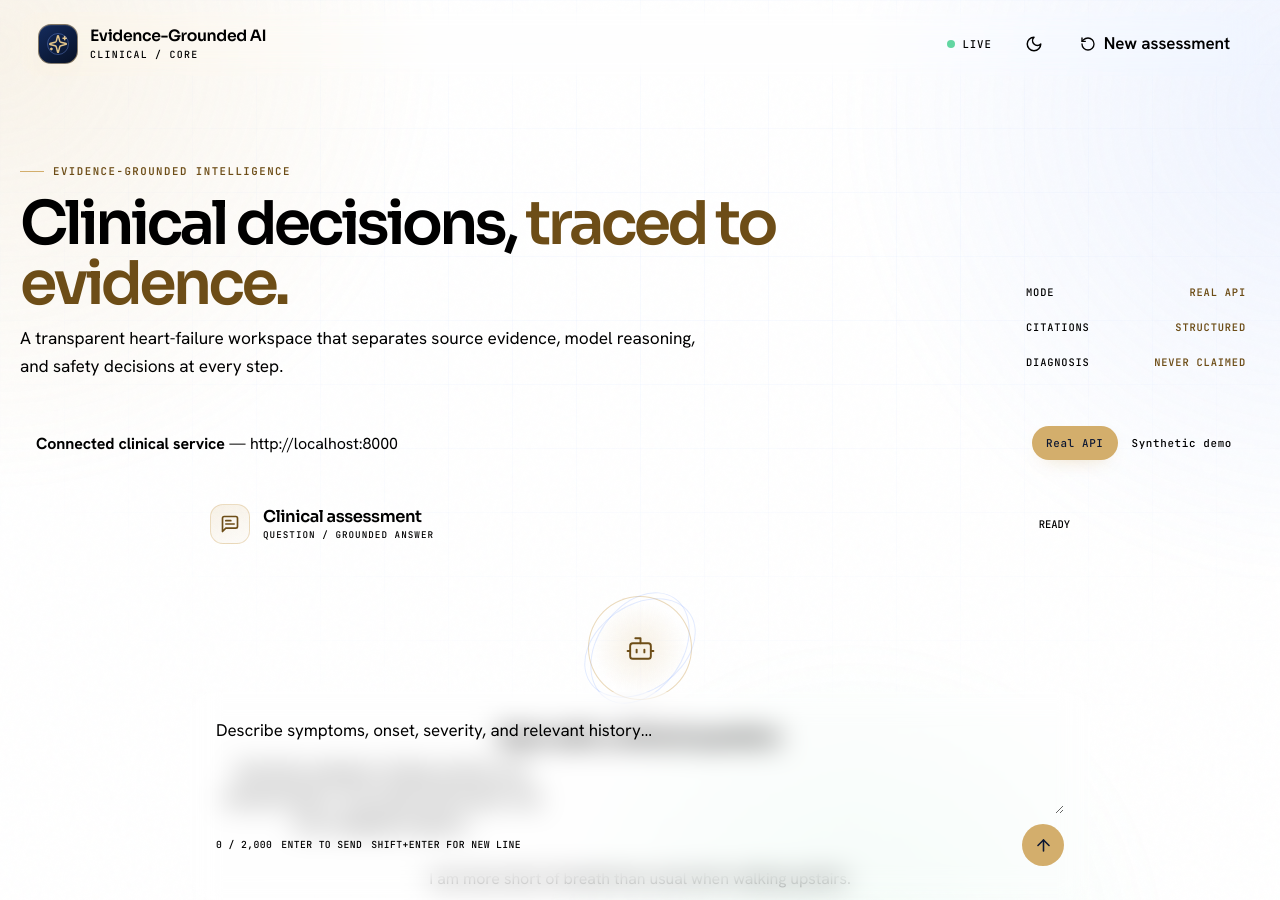
Test: real API failures and explicit fallback › renders a rate-limit response with Retry-After and does not offer unrelated demo fallback
Expected: the message named "System status: LIVE" is shown, [946,37,992,51]
Type "Assess this" into the text box named "Clinical question" at [640, 766], box [216,718,1064,814]
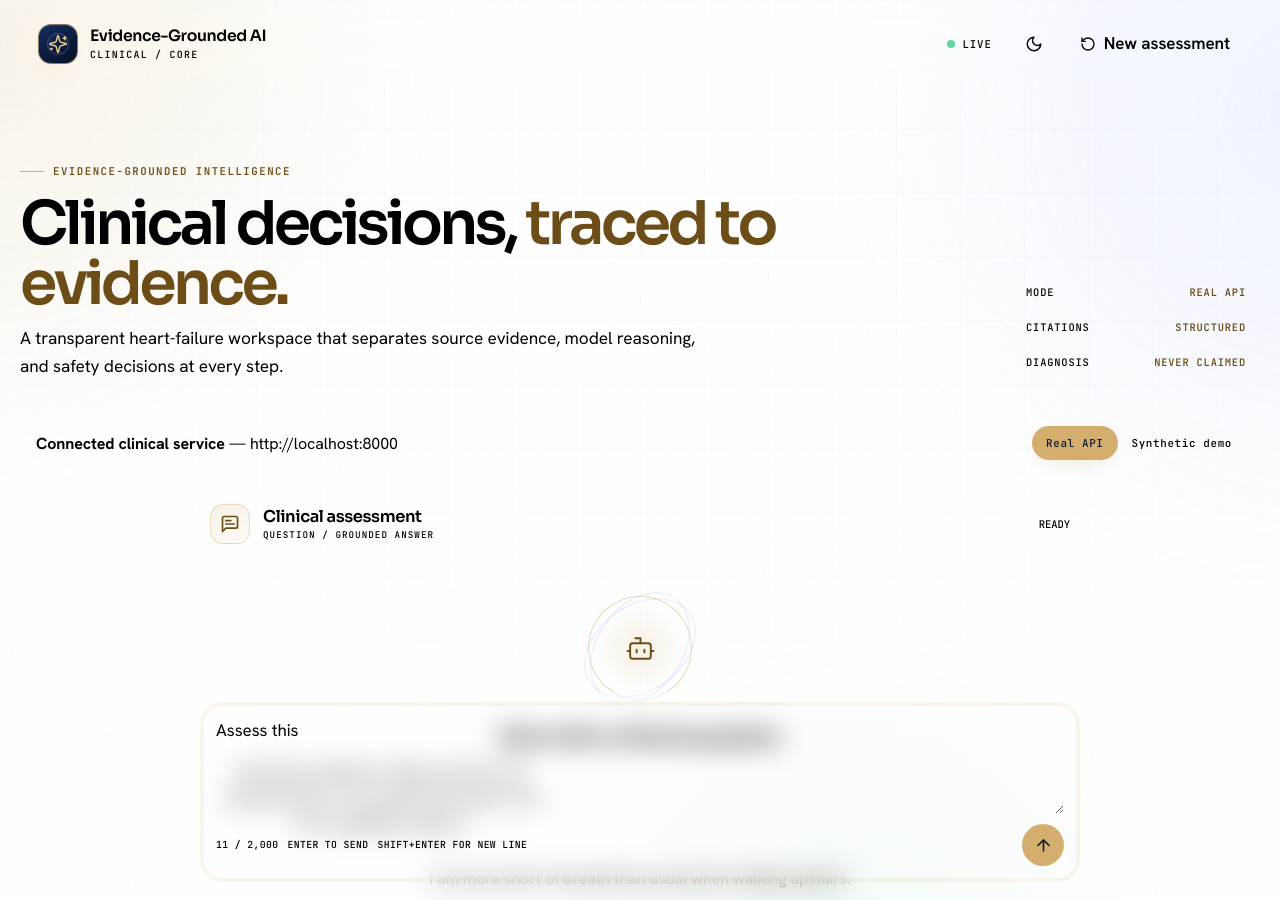
Click the button named "Submit clinical question" at [1043, 845], box [1022,824,1064,866]
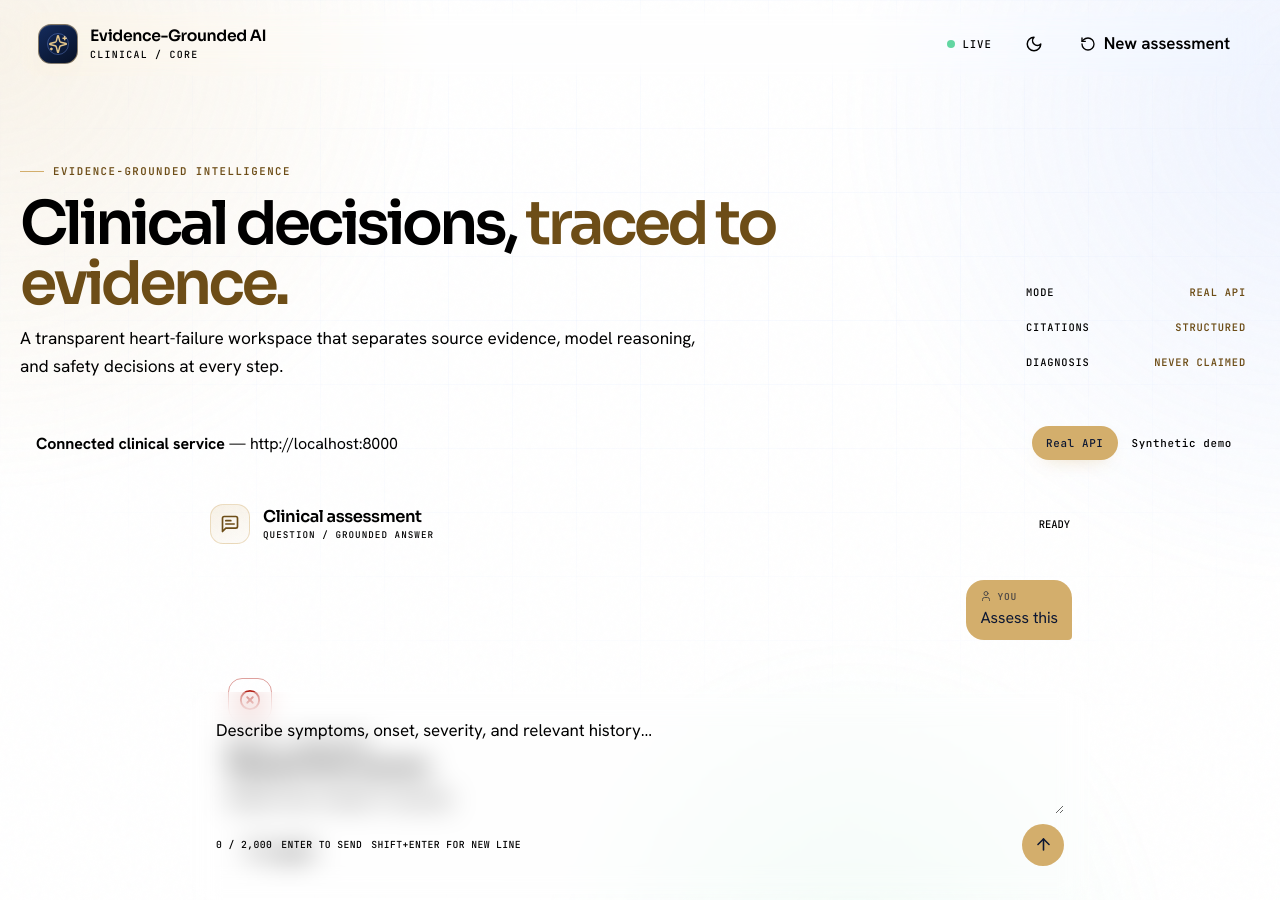
Expected: the text "Please retry in about 7 seconds." is shown, [228,788,454,809]
Result: the heading "Request limit reached" is shown at [228,756,428,778]
